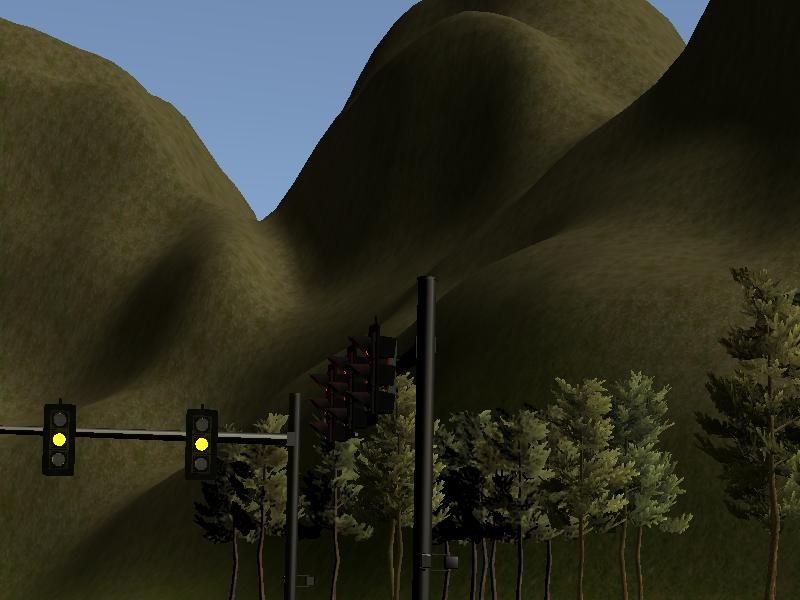YELLOW: (39, 402, 79, 478), (181, 406, 221, 482)
